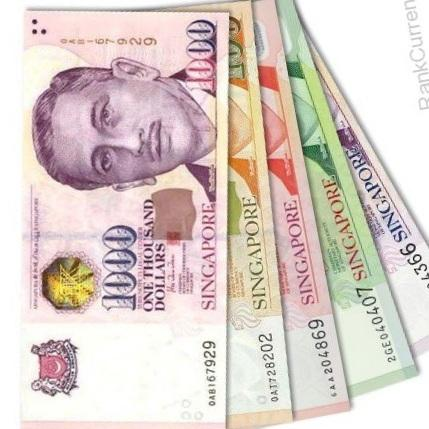1000SingaporeDollar: (26, 13, 227, 429)
